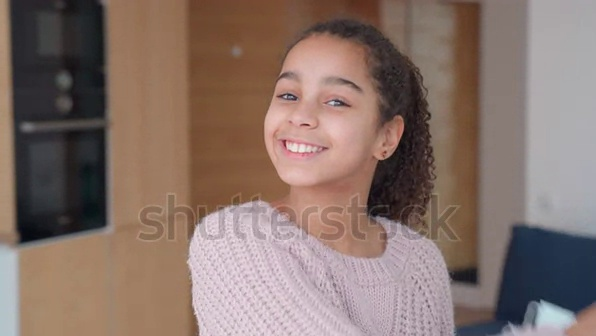No Mask: (257, 110, 365, 191)
